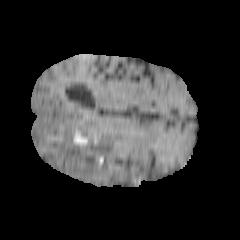glioma: (52, 111, 145, 182)
